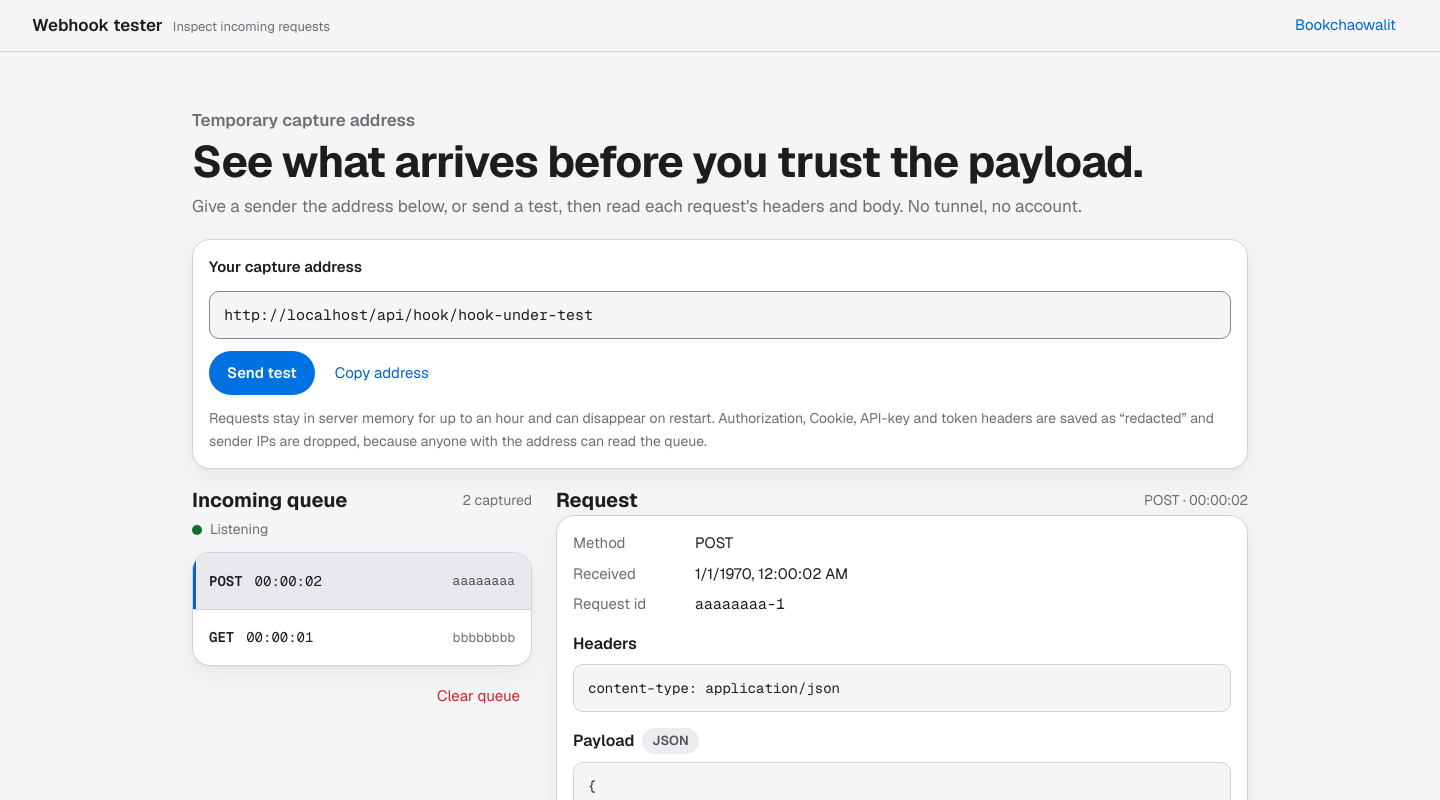
Test: clear with undo › clears on the server after the Undo window, keeping requests that arrived meanwhile
What coordinates should you click on to do the following:
click the button "Clear queue"
I would click on:
 (478, 696)
Its box is [425,674,532,718].
Wait 8500 ms
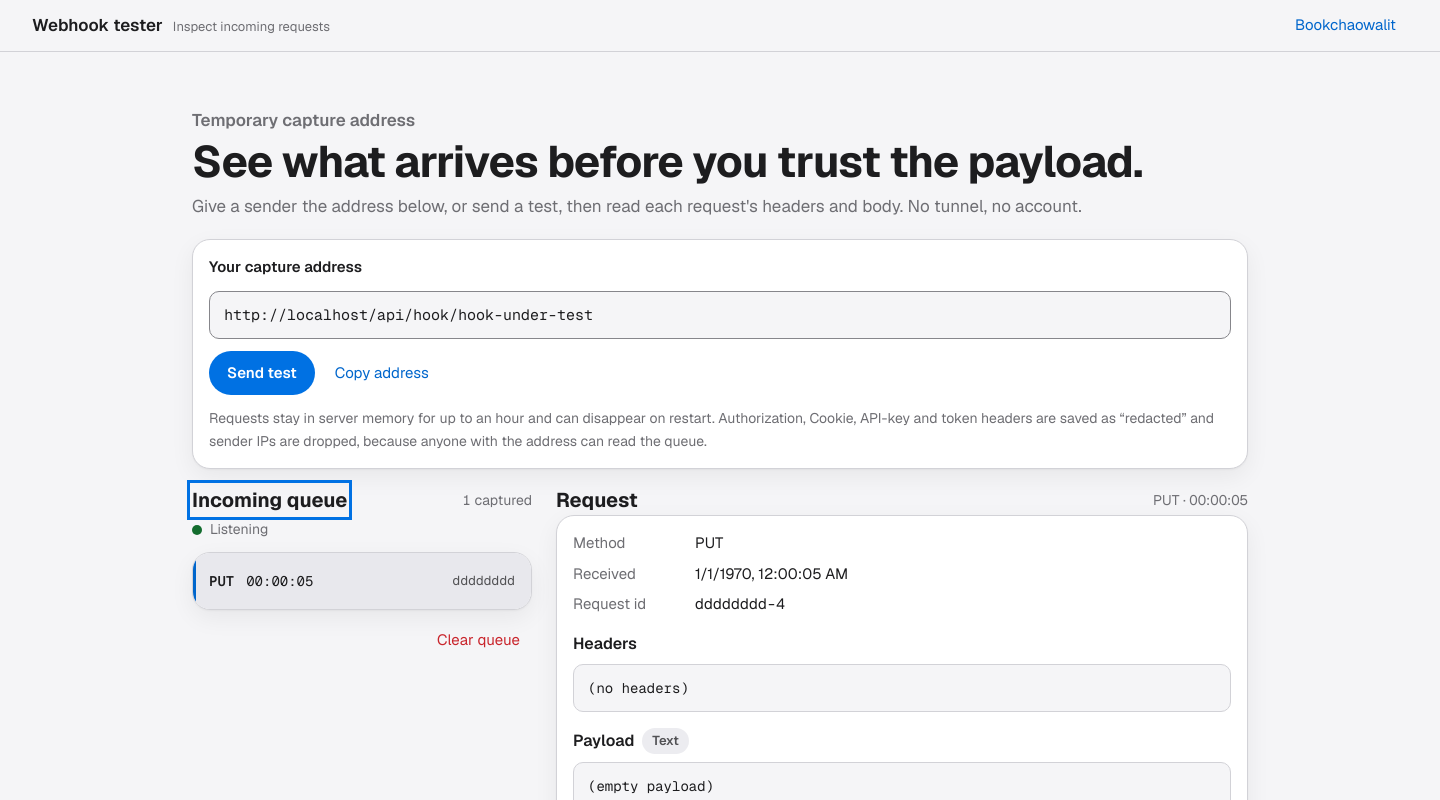
expect the number of buttons with class "wh-req" is 1: met, box [193,553,531,609]
